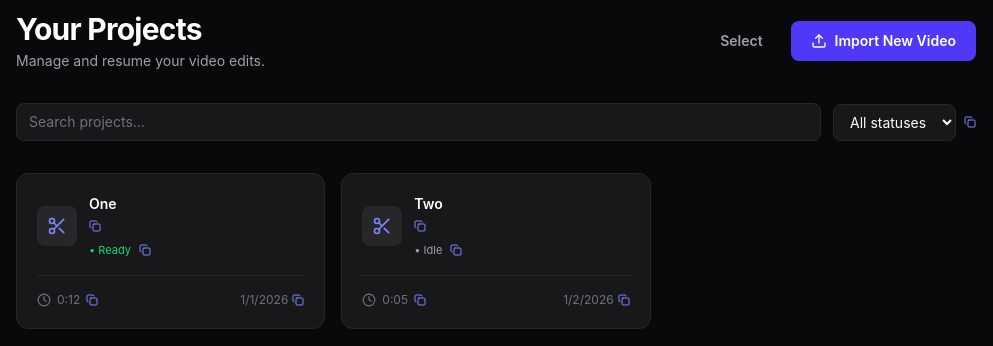
Test: ProjectList › filters projects by name search
Expected: the heading "One" is shown, [89,195,117,212]
Step 1. Type "One" into the search field labelled "Search projects" → (418, 122), box [16,103,821,141]
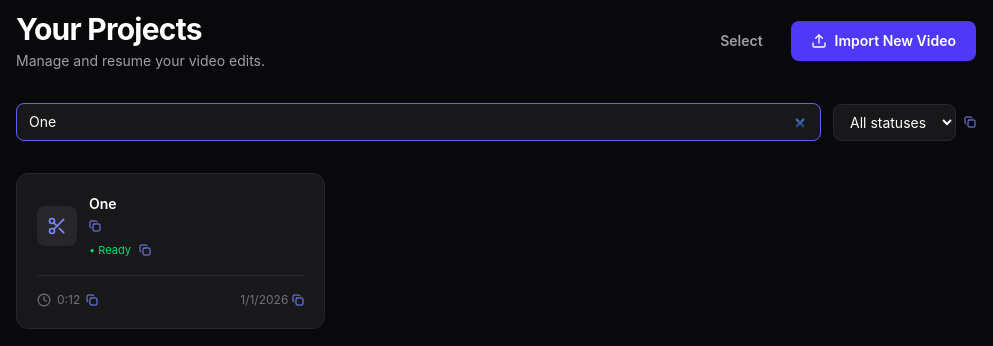
Expected: the heading "One" is shown, [89,195,117,212]
Now the heading "Two" is gone
